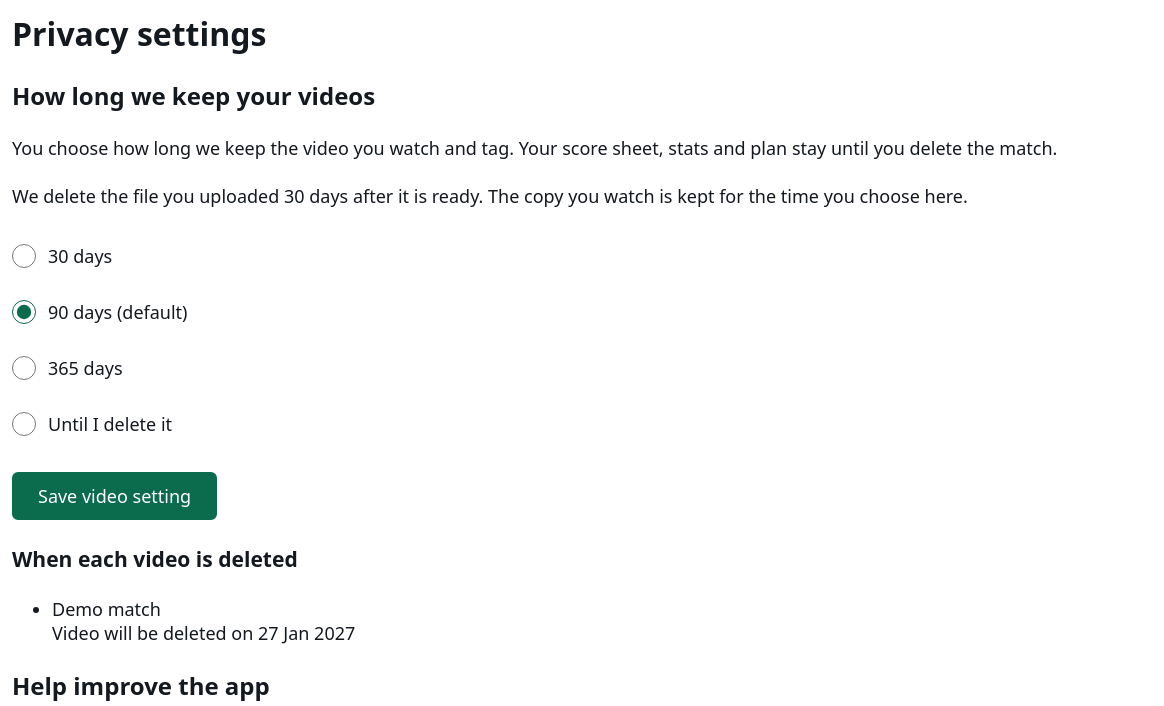
Test: R-01 save errors (negative first) › a saved retention whose new dates cannot be read says so and shows no old date (PE-ST071-01)
The width and height of the screenshot is (1164, 706).
Expected: the heading "How long we keep your videos" is shown, 12,79 -> 375,112
Click the radio button labelled "30 days" at (24, 256), box 12,244 -> 36,268
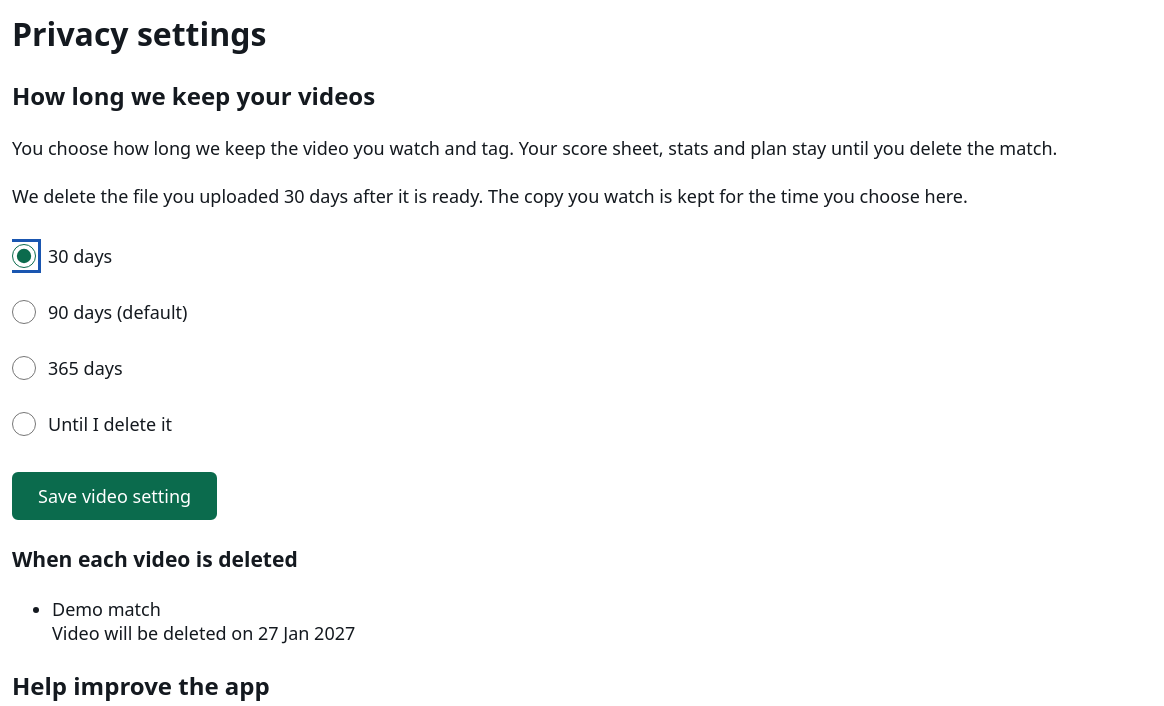
Click the button "Save video setting" at (115, 496), box 12,472 -> 217,520
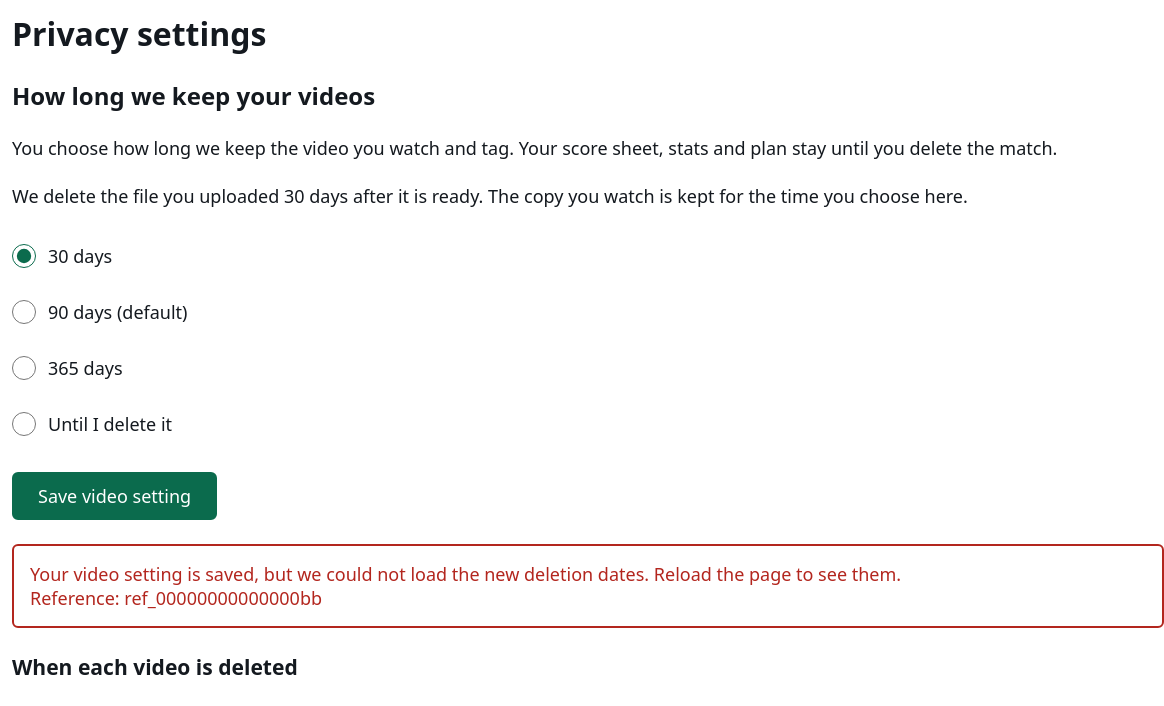
Now the message shows "Your video setting is saved, but we could not load the new deletion dates. Reload the page to see them.", box 30,562 -> 901,586
Now the message shows "Reference: ref_00000000000000bb", box 30,586 -> 322,610
Now the text "Video will be deleted on 27 Jan 2027" is gone
